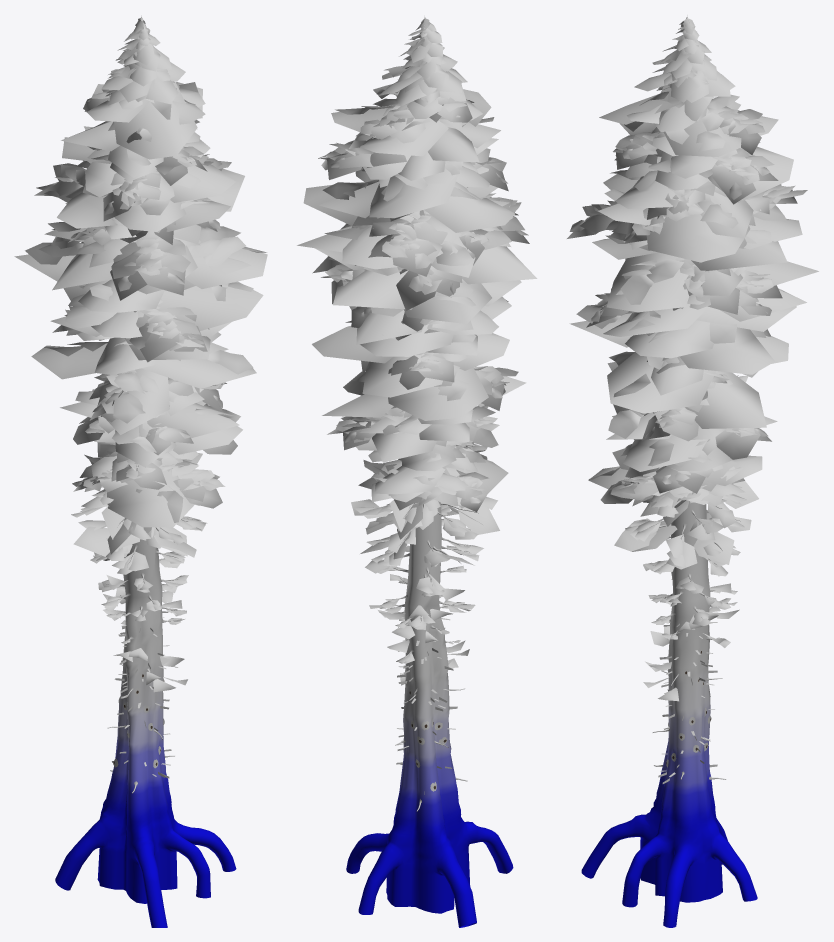
Rendered from Redwood2_LOD0.fbx.
3 renders of one model, left to right at view 1: azimuth 30°, elevation 25°; view 2: azimuth 150°, elevation 25°; view 3: azimuth 270°, elevation 25°, orthographic.
Visible parts, largest first — view 1: polySurface1438; view 2: polySurface1438; view 3: polySurface1438.
Boxes of the visible parts, x1=… form: polySurface1438: x1=14, y1=15, x2=267, y2=927; polySurface1438: x1=297, y1=15, x2=537, y2=927; polySurface1438: x1=567, y1=15, x2=818, y2=927.
Bounding box in the file's own units: 477 × 1892 × 496.
